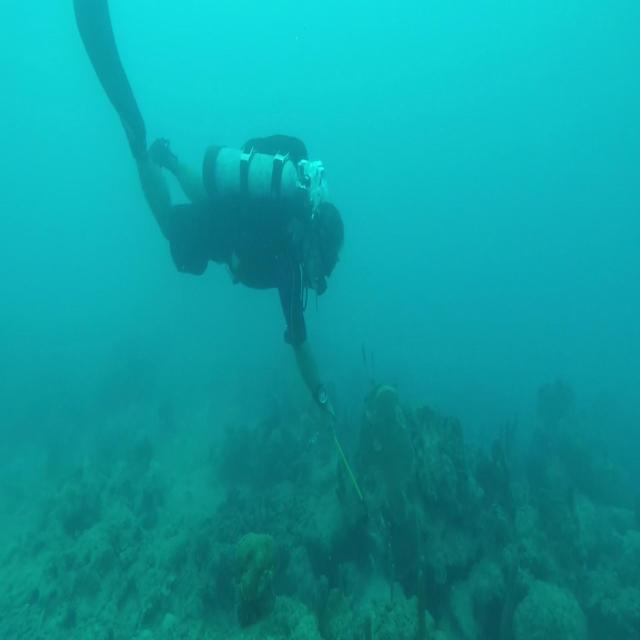human: (72, 1, 346, 427)
